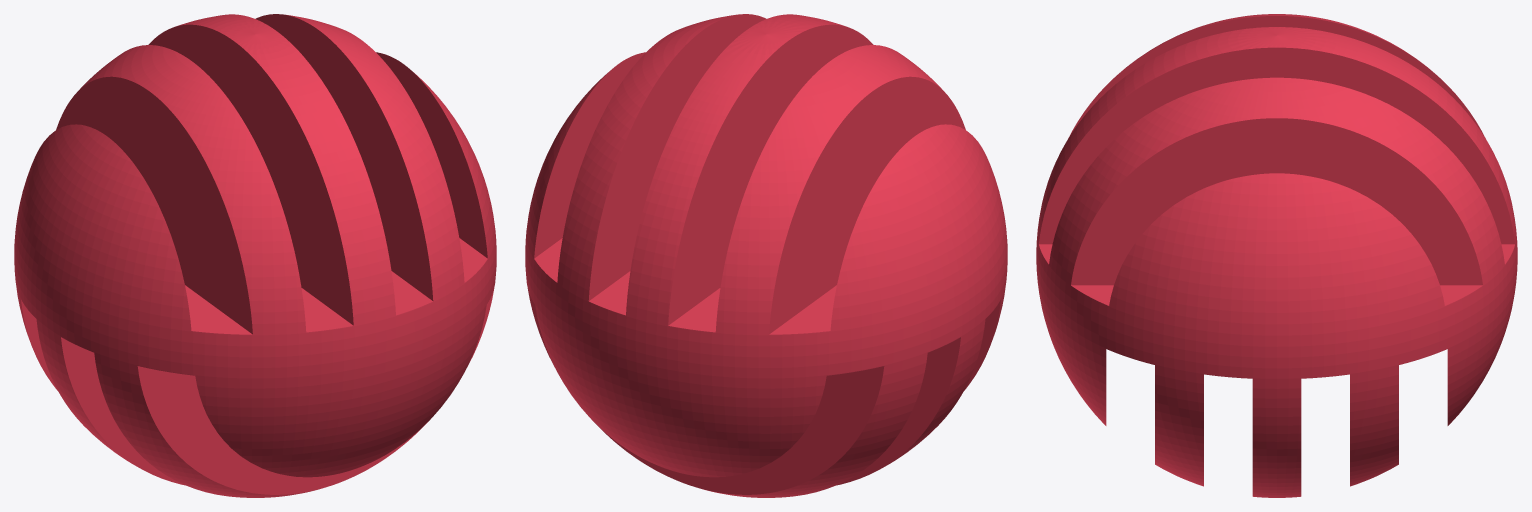
Rendered from red ball.fbx.
3 views of the same model, side by side, from view 1: azimuth 30°, elevation 25°; view 2: azimuth 150°, elevation 25°; view 3: azimuth 270°, elevation 25° (orthographic).
Visible parts, largest first — view 1: ball; view 2: ball; view 3: ball.
Part boxes in pixels (bbox=[...]): ball: bbox=[14, 14, 496, 497]; ball: bbox=[525, 14, 1007, 497]; ball: bbox=[1036, 14, 1517, 497].
Bounding box in the file's own units: 49.36 × 49.88 × 49.36.
